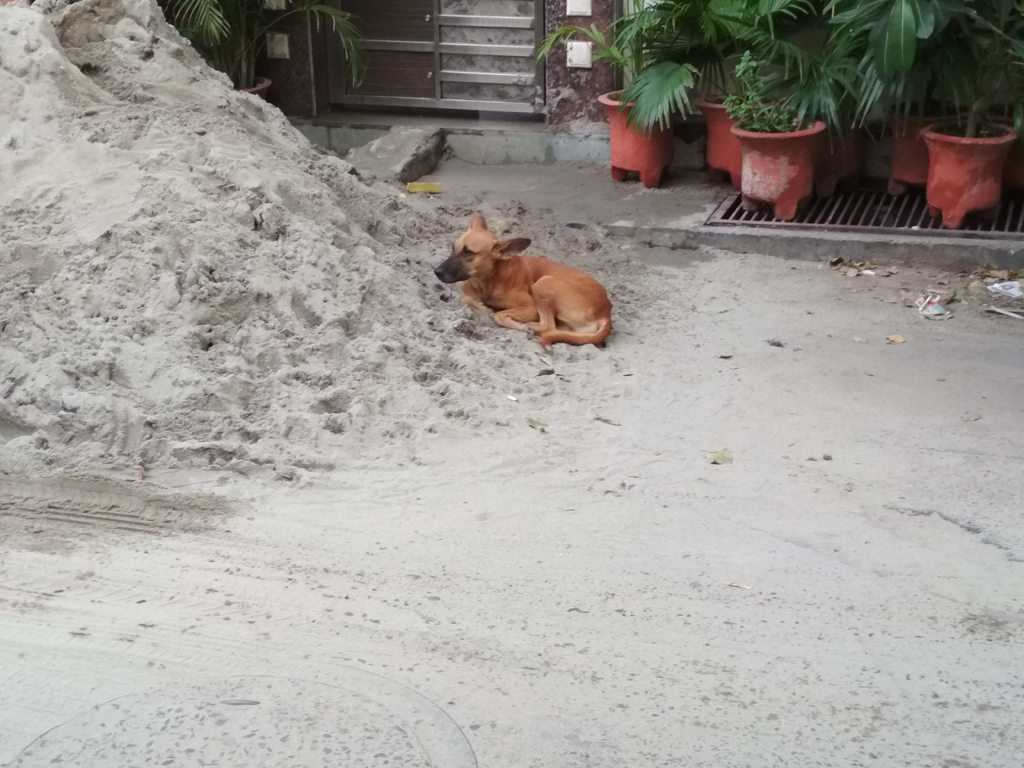dog: (435, 212, 612, 353)
